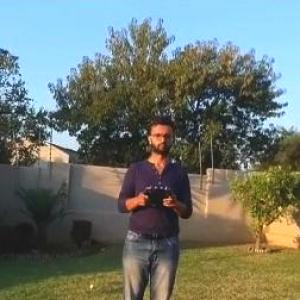follow: (108, 109, 198, 299)
